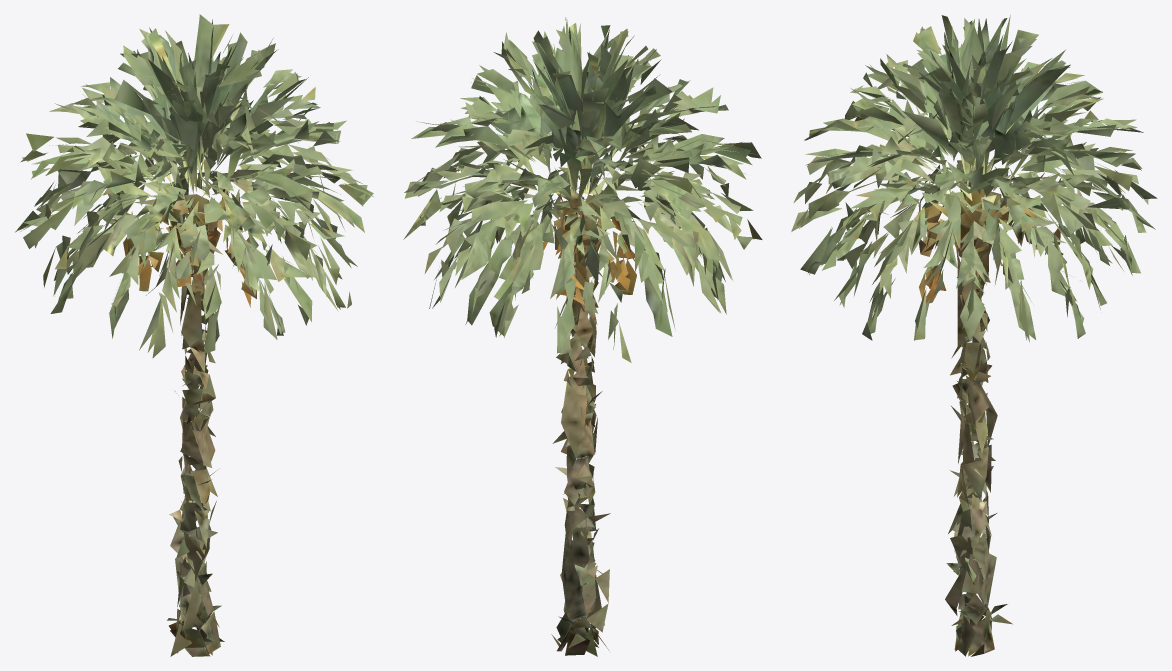
File: dattier-lod.glb
3 views of the same model, side by side, from view 1: azimuth 30°, elevation 25°; view 2: azimuth 150°, elevation 25°; view 3: azimuth 270°, elevation 25° (orthographic).
Parts seen in each view (by area): view 1: Mesh_0; view 2: Mesh_0; view 3: Mesh_0.
Boxes of the visible parts, box(x1,y1,x2,y2) form: Mesh_0: box(15, 14, 373, 656); Mesh_0: box(403, 17, 762, 656); Mesh_0: box(791, 15, 1157, 656).
Size of the model in its own units: 1.01 by 1.87 by 0.9973.
Materials: 1 (1 with a texture image).
